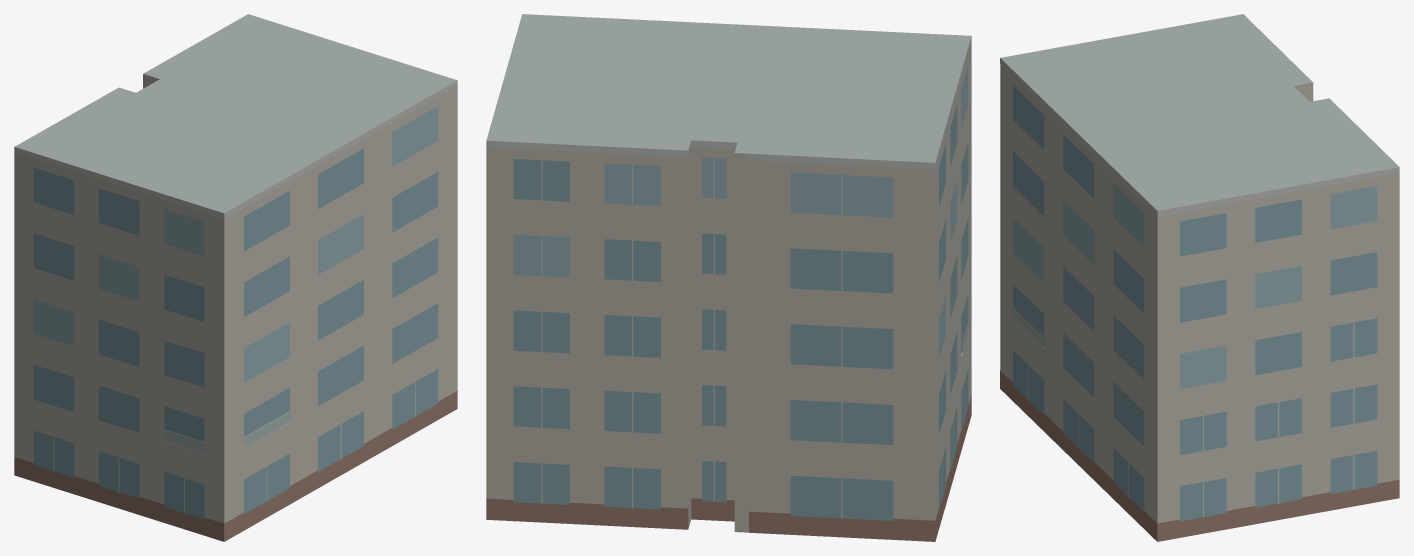
Rendered from survey-upis-32953107.glb.
3 views of the same model, side by side, from view 1: azimuth 30°, elevation 25°; view 2: azimuth 150°, elevation 25°; view 3: azimuth 270°, elevation 25° (orthographic). The views are drawn at different scales.
Visible parts, largest first — view 1: survey-upis-32953107.tmp; view 2: survey-upis-32953107.tmp; view 3: survey-upis-32953107.tmp.
Part boxes in pixels (box(x1,y1,x2,y2)): survey-upis-32953107.tmp: box(14, 14, 457, 541); survey-upis-32953107.tmp: box(486, 14, 971, 541); survey-upis-32953107.tmp: box(1000, 14, 1399, 541).
Size of the model in its own units: 18.13 by 14.2 by 15.55.
